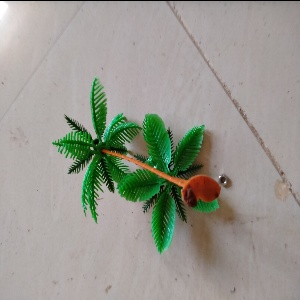plant: (54, 80, 218, 228)
